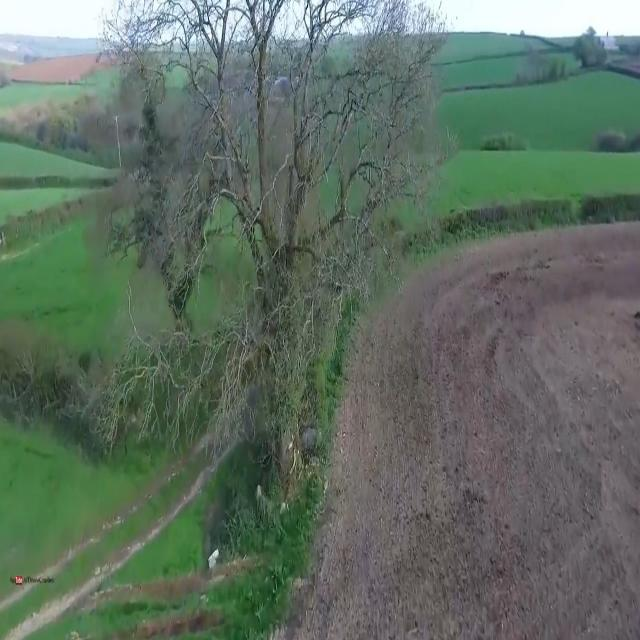Tree: (101, 0, 461, 511)
